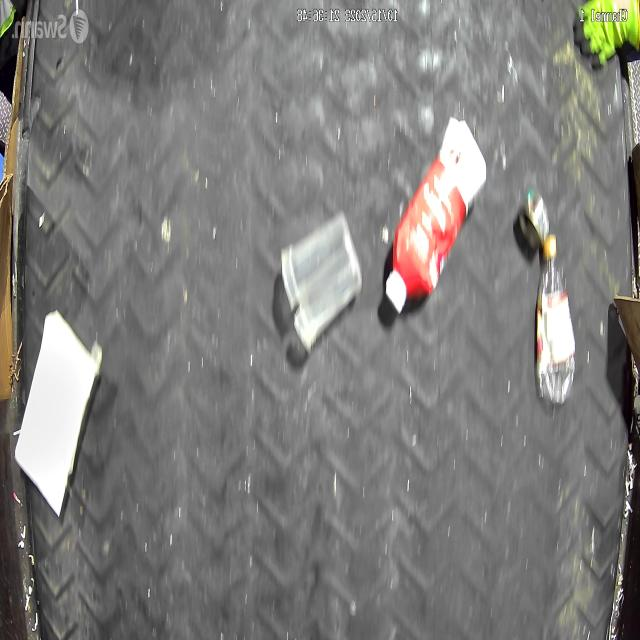can: (518, 189, 550, 249)
plastic_bottle: (536, 234, 576, 407)
